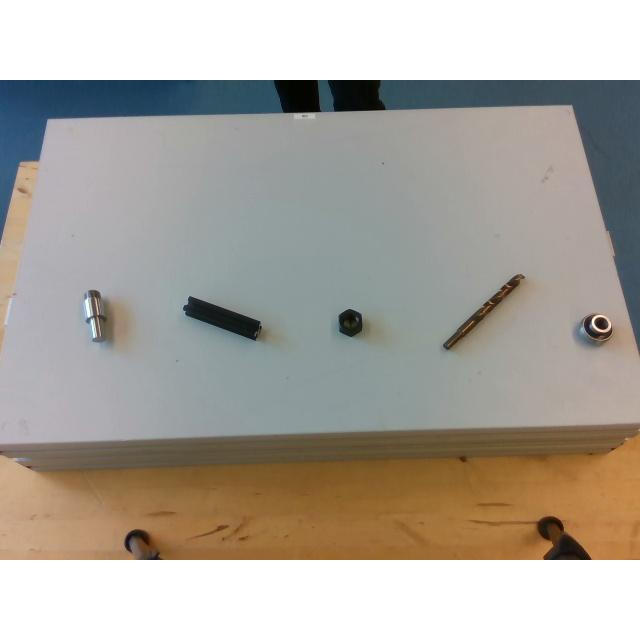Axis2: (82, 289, 106, 339)
Bearing2: (580, 314, 612, 342)
Drill: (442, 272, 526, 352)
F20_20_B: (182, 296, 262, 340)
M20: (337, 308, 363, 338)
